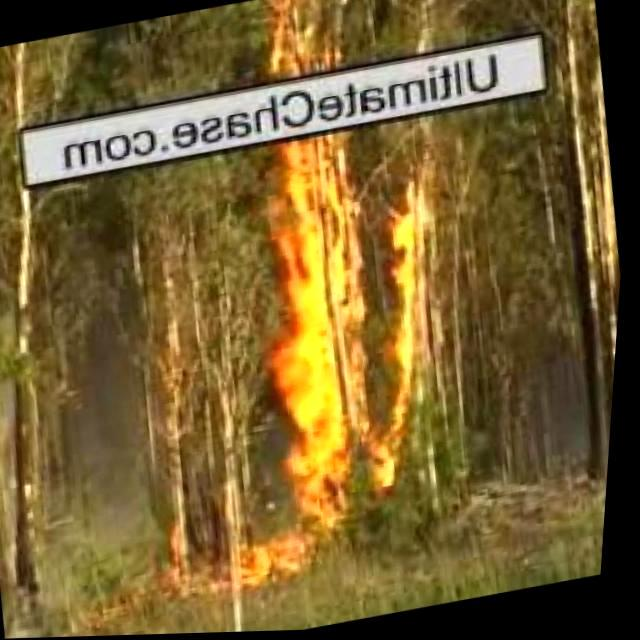fire: (223, 110, 497, 522), (253, 0, 334, 92), (243, 534, 317, 594)
